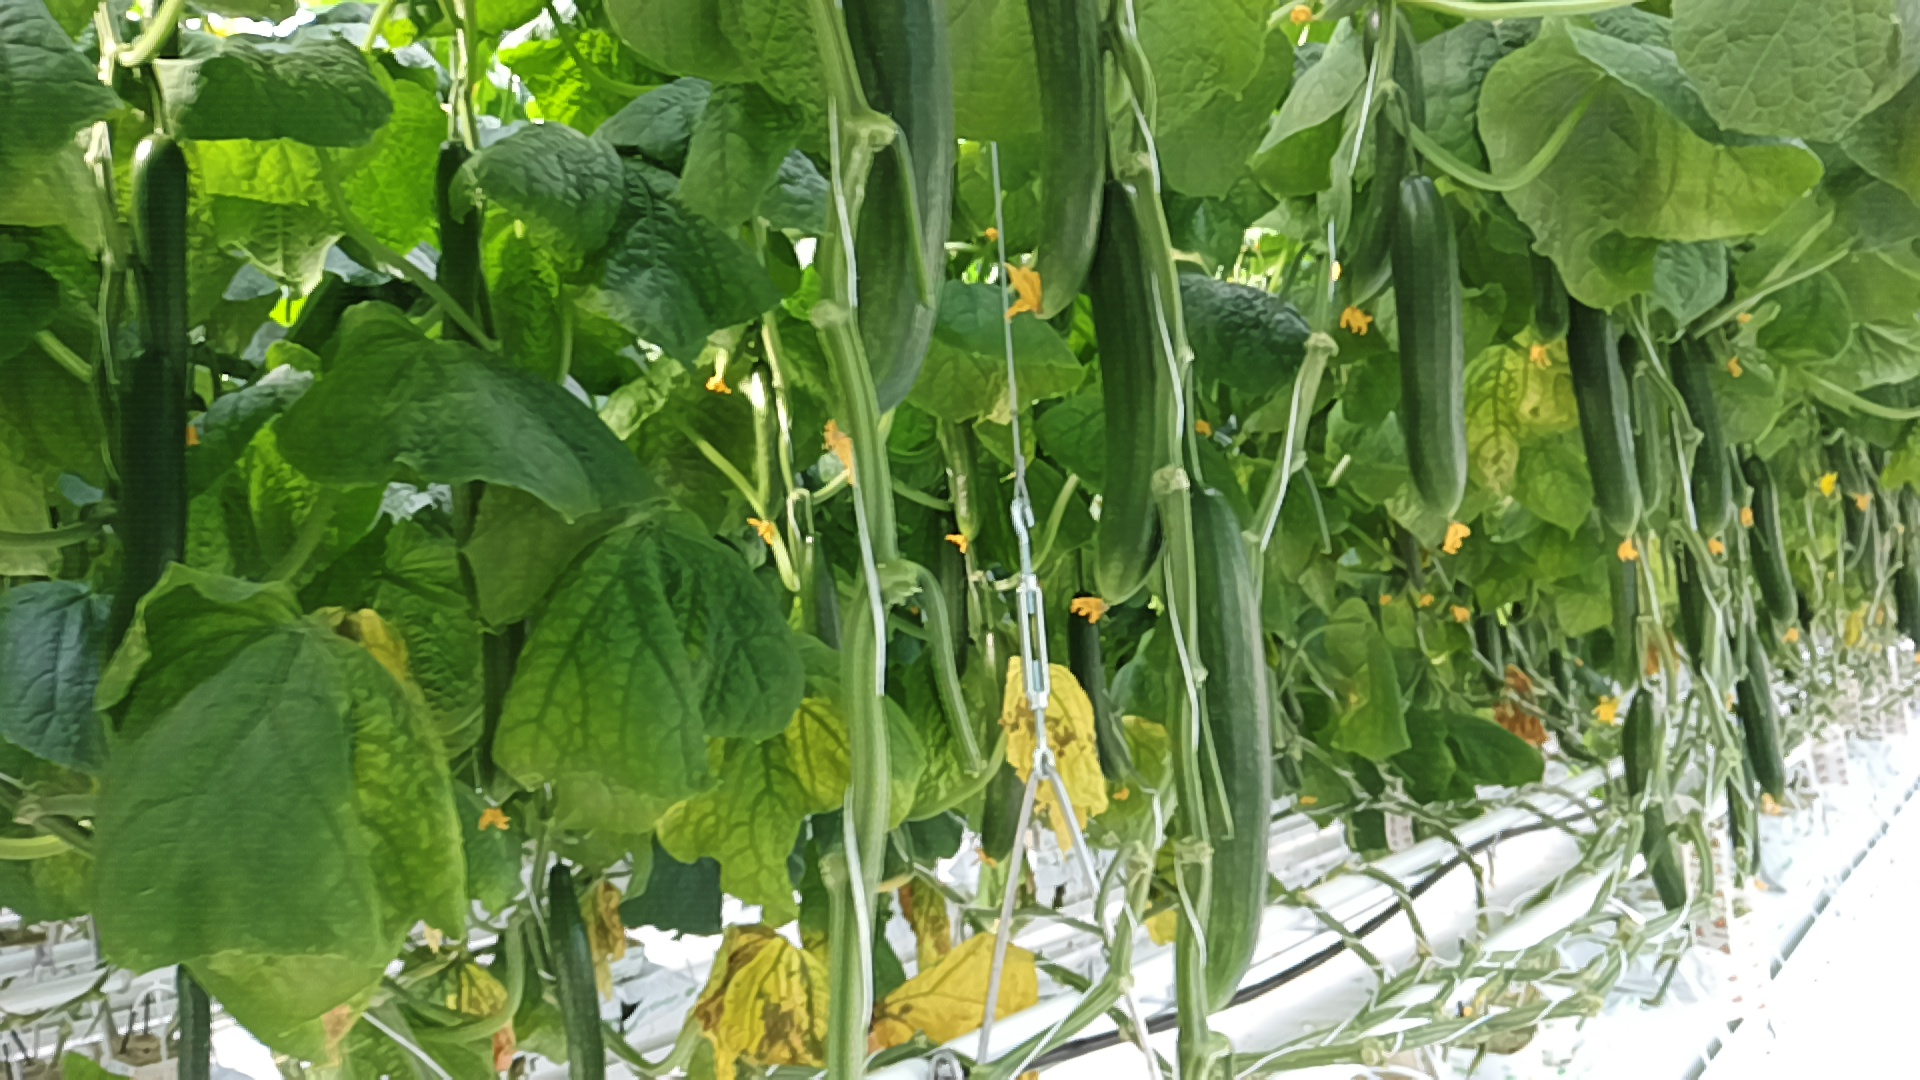gurka: (1158, 468, 1280, 1015), (116, 135, 228, 686), (1387, 166, 1487, 518), (1611, 676, 1708, 913)
